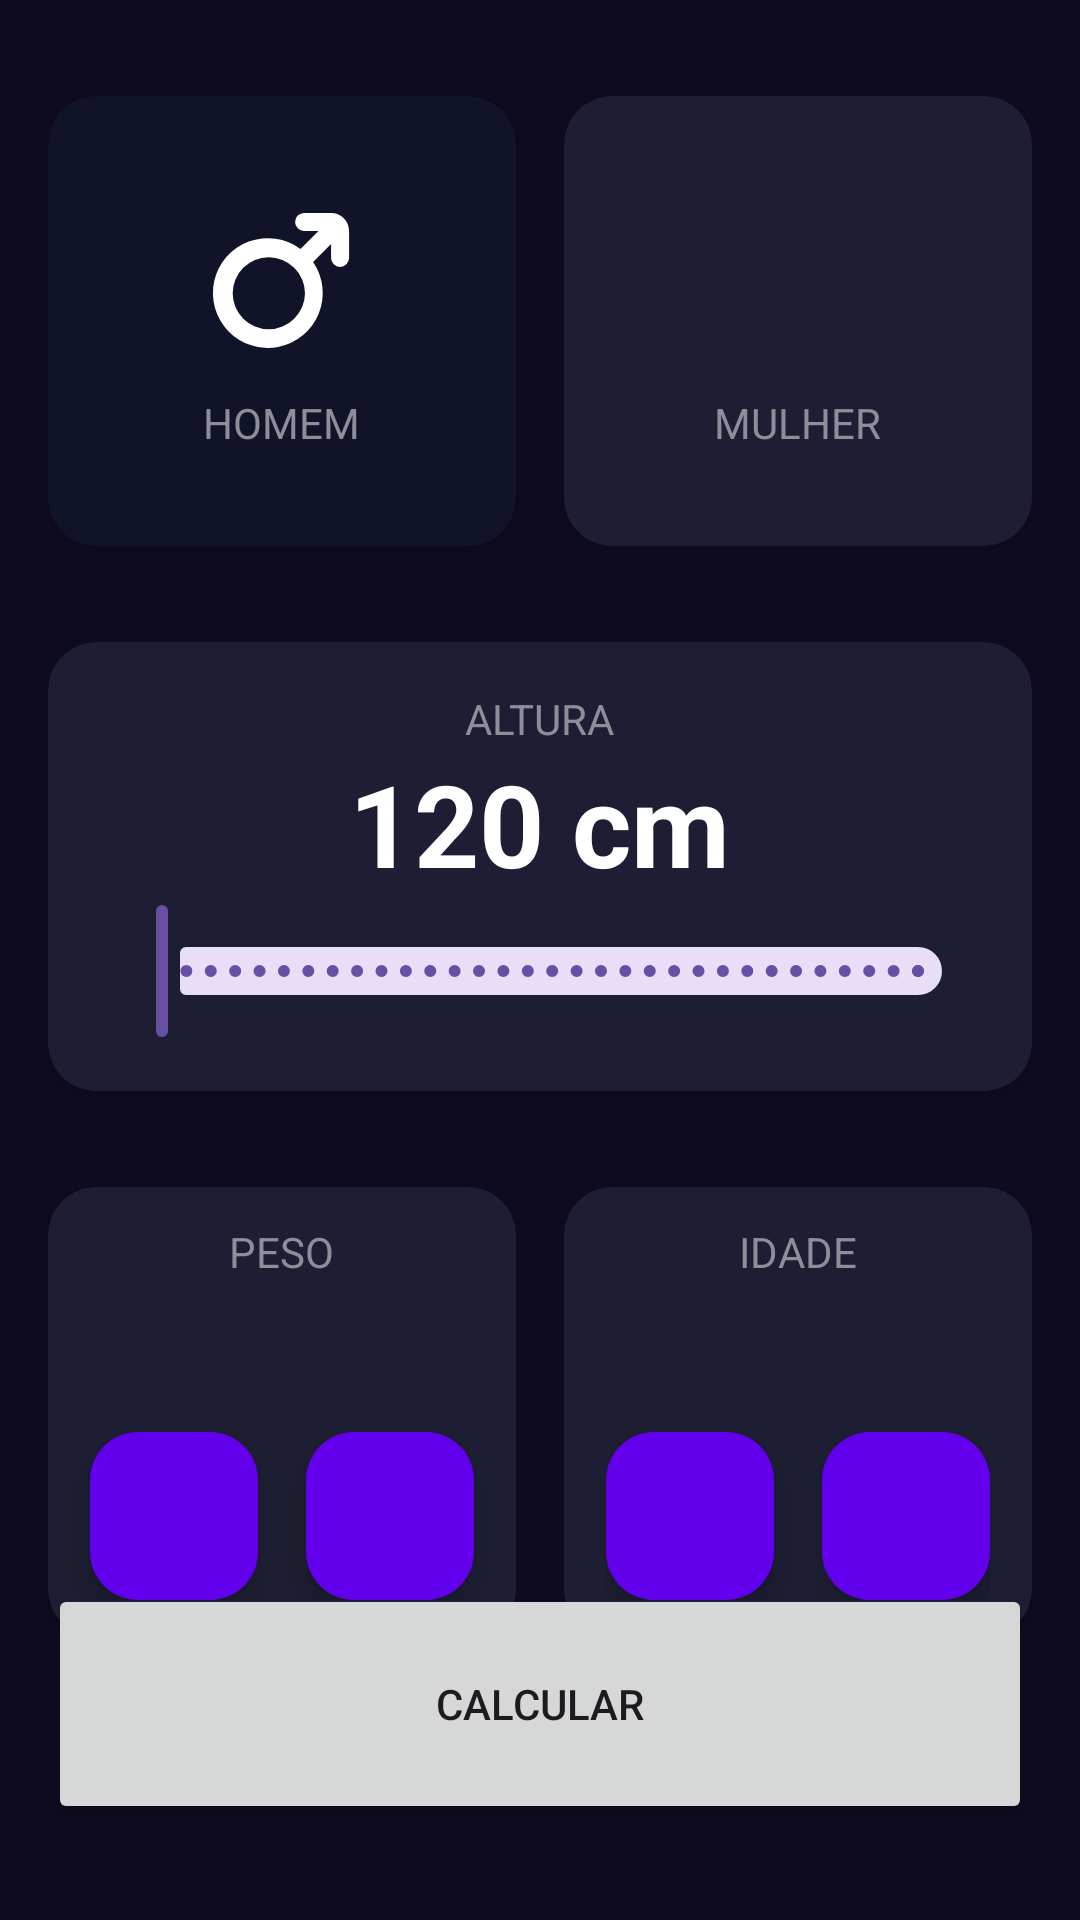

Icon click points for this 1080x1920 phone screenshot, format (x=x, y=y):
male: (x=281, y=280)
